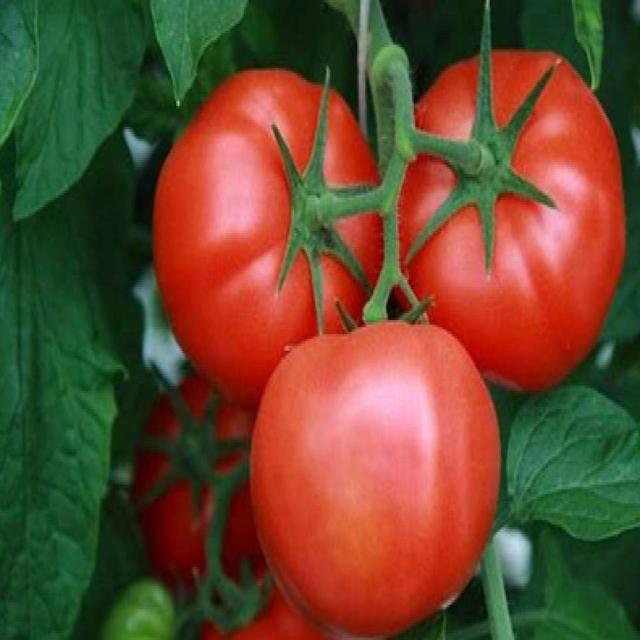Healthy Fruit: (92, 135, 340, 307)
